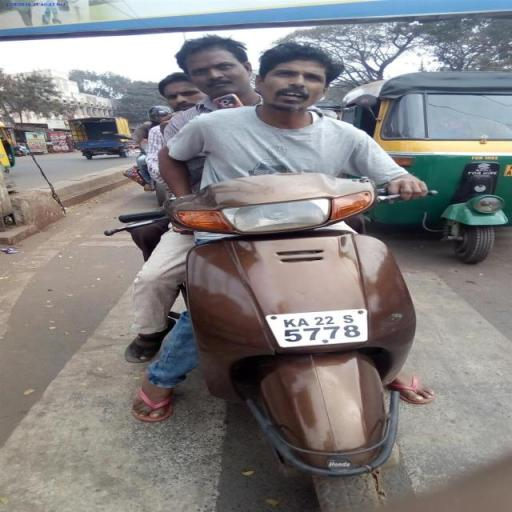tripple riding: (124, 30, 408, 232)
